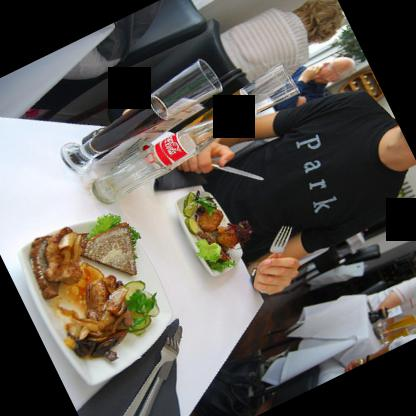handbag: (196, 359, 270, 416), (219, 66, 246, 86)
